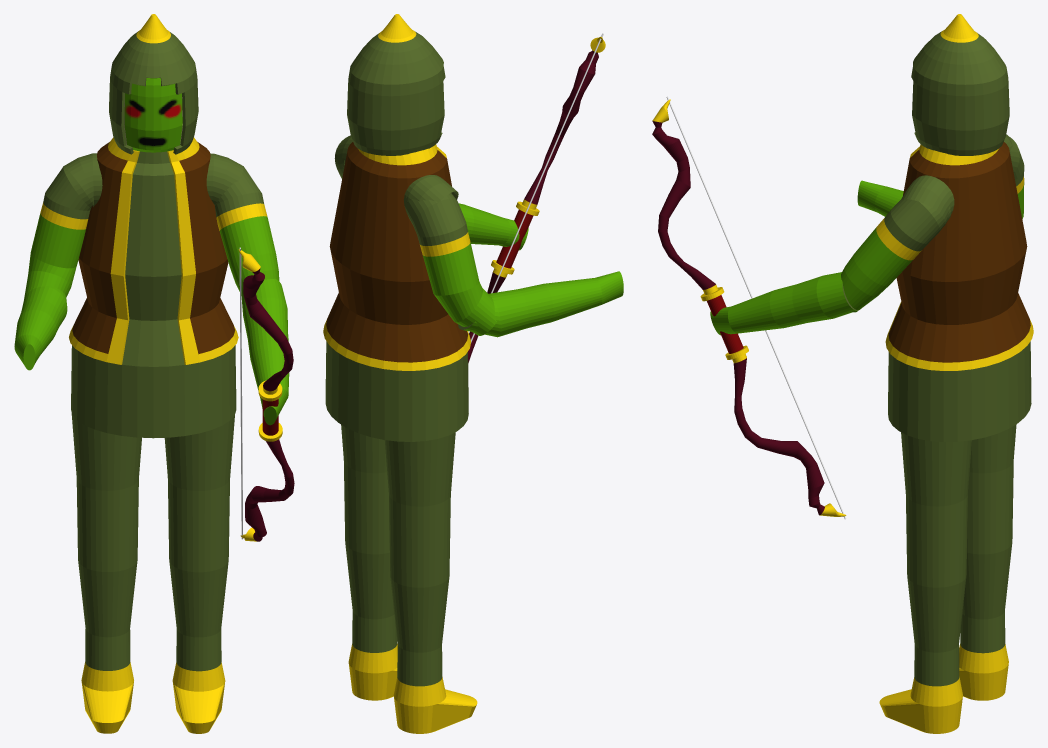
Rendered from ОркЛучник3.fbx.
3 views of the same model, side by side, from view 1: azimuth 30°, elevation 25°; view 2: azimuth 150°, elevation 25°; view 3: azimuth 270°, elevation 25° (orthographic).
Visible parts, largest first — view 1: Цилиндр.327, Цилиндр.337, Цилиндр.333, Цилиндр.334, Цилиндр.332, Цилиндр.335, Цилиндр.336, Цилиндр.329, Цилиндр.339, Цилиндр.331, Цилиндр.330, Цилиндр.328 (+3 smaller); view 2: Цилиндр.337, Цилиндр.336, Цилиндр.327, Цилиндр.333, Цилиндр.332, Цилиндр.329, Цилиндр.335, Цилиндр.334, Цилиндр.328, Цилиндр.339, Цилиндр.330, Цилиндр.326 (+1 smaller); view 3: Цилиндр.337, Цилиндр.336, Цилиндр.327, Цилиндр.334, Цилиндр.335, Цилиндр.332, Цилиндр.339, Цилиндр.331, Цилиндр.333, Цилиндр.330, Цилиндр.325, Цилиндр.328 (+2 smaller).
Boxes of the visible parts, box(x1,y1,x2,y2) form: Цилиндр.327: box(71, 78, 236, 438); Цилиндр.337: box(69, 137, 238, 364); Цилиндр.333: box(71, 413, 141, 571); Цилиндр.334: box(164, 415, 234, 572); Цилиндр.332: box(78, 560, 137, 733); Цилиндр.335: box(169, 561, 228, 733); Цилиндр.336: box(109, 14, 198, 154); Цилиндр.329: box(24, 166, 92, 299); Цилиндр.339: box(238, 249, 294, 541); Цилиндр.331: box(215, 166, 279, 292); Цилиндр.330: box(241, 278, 289, 425); Цилиндр.328: box(14, 285, 67, 370); Цилиндр.337: box(323, 142, 470, 370); Цилиндр.336: box(347, 14, 445, 155); Цилиндр.327: box(325, 341, 468, 441); Цилиндр.333: box(384, 432, 455, 587); Цилиндр.332: box(390, 577, 477, 733); Цилиндр.329: box(403, 193, 496, 335); Цилиндр.335: box(345, 544, 397, 700); Цилиндр.334: box(341, 424, 389, 554); Цилиндр.328: box(458, 271, 623, 337); Цилиндр.339: box(468, 36, 605, 362); Цилиндр.330: box(458, 203, 528, 250); Цилиндр.326: box(404, 175, 458, 203); Цилиндр.337: box(885, 142, 1033, 370); Цилиндр.336: box(911, 14, 1009, 155); Цилиндр.327: box(888, 341, 1031, 441); Цилиндр.334: box(901, 432, 971, 587); Цилиндр.335: box(879, 577, 966, 733); Цилиндр.332: box(959, 544, 1011, 700); Цилиндр.339: box(652, 99, 846, 516); Цилиндр.331: box(841, 199, 950, 312); Цилиндр.333: box(967, 424, 1016, 554); Цилиндр.330: box(710, 272, 859, 335); Цилиндр.325: box(901, 175, 954, 226); Цилиндр.328: box(857, 180, 903, 216).
Size of the model in its own units: 45.77 by 117 by 58.29.
